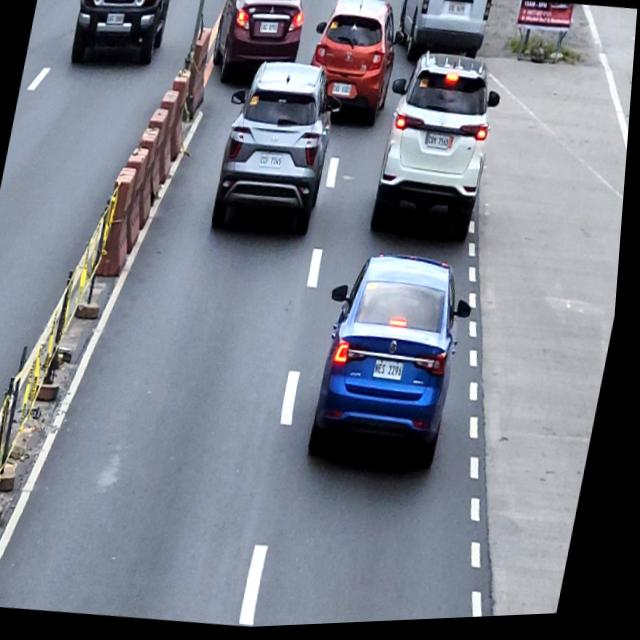Car: (302, 250, 486, 494), (368, 47, 511, 253), (206, 56, 353, 254), (298, 0, 408, 137), (203, 0, 311, 95), (66, 0, 173, 77), (392, 0, 496, 71)
License-Plate: (377, 360, 411, 387), (428, 134, 453, 155), (260, 154, 286, 172), (332, 84, 352, 100), (105, 12, 125, 27), (259, 23, 280, 36), (447, 6, 467, 19)
